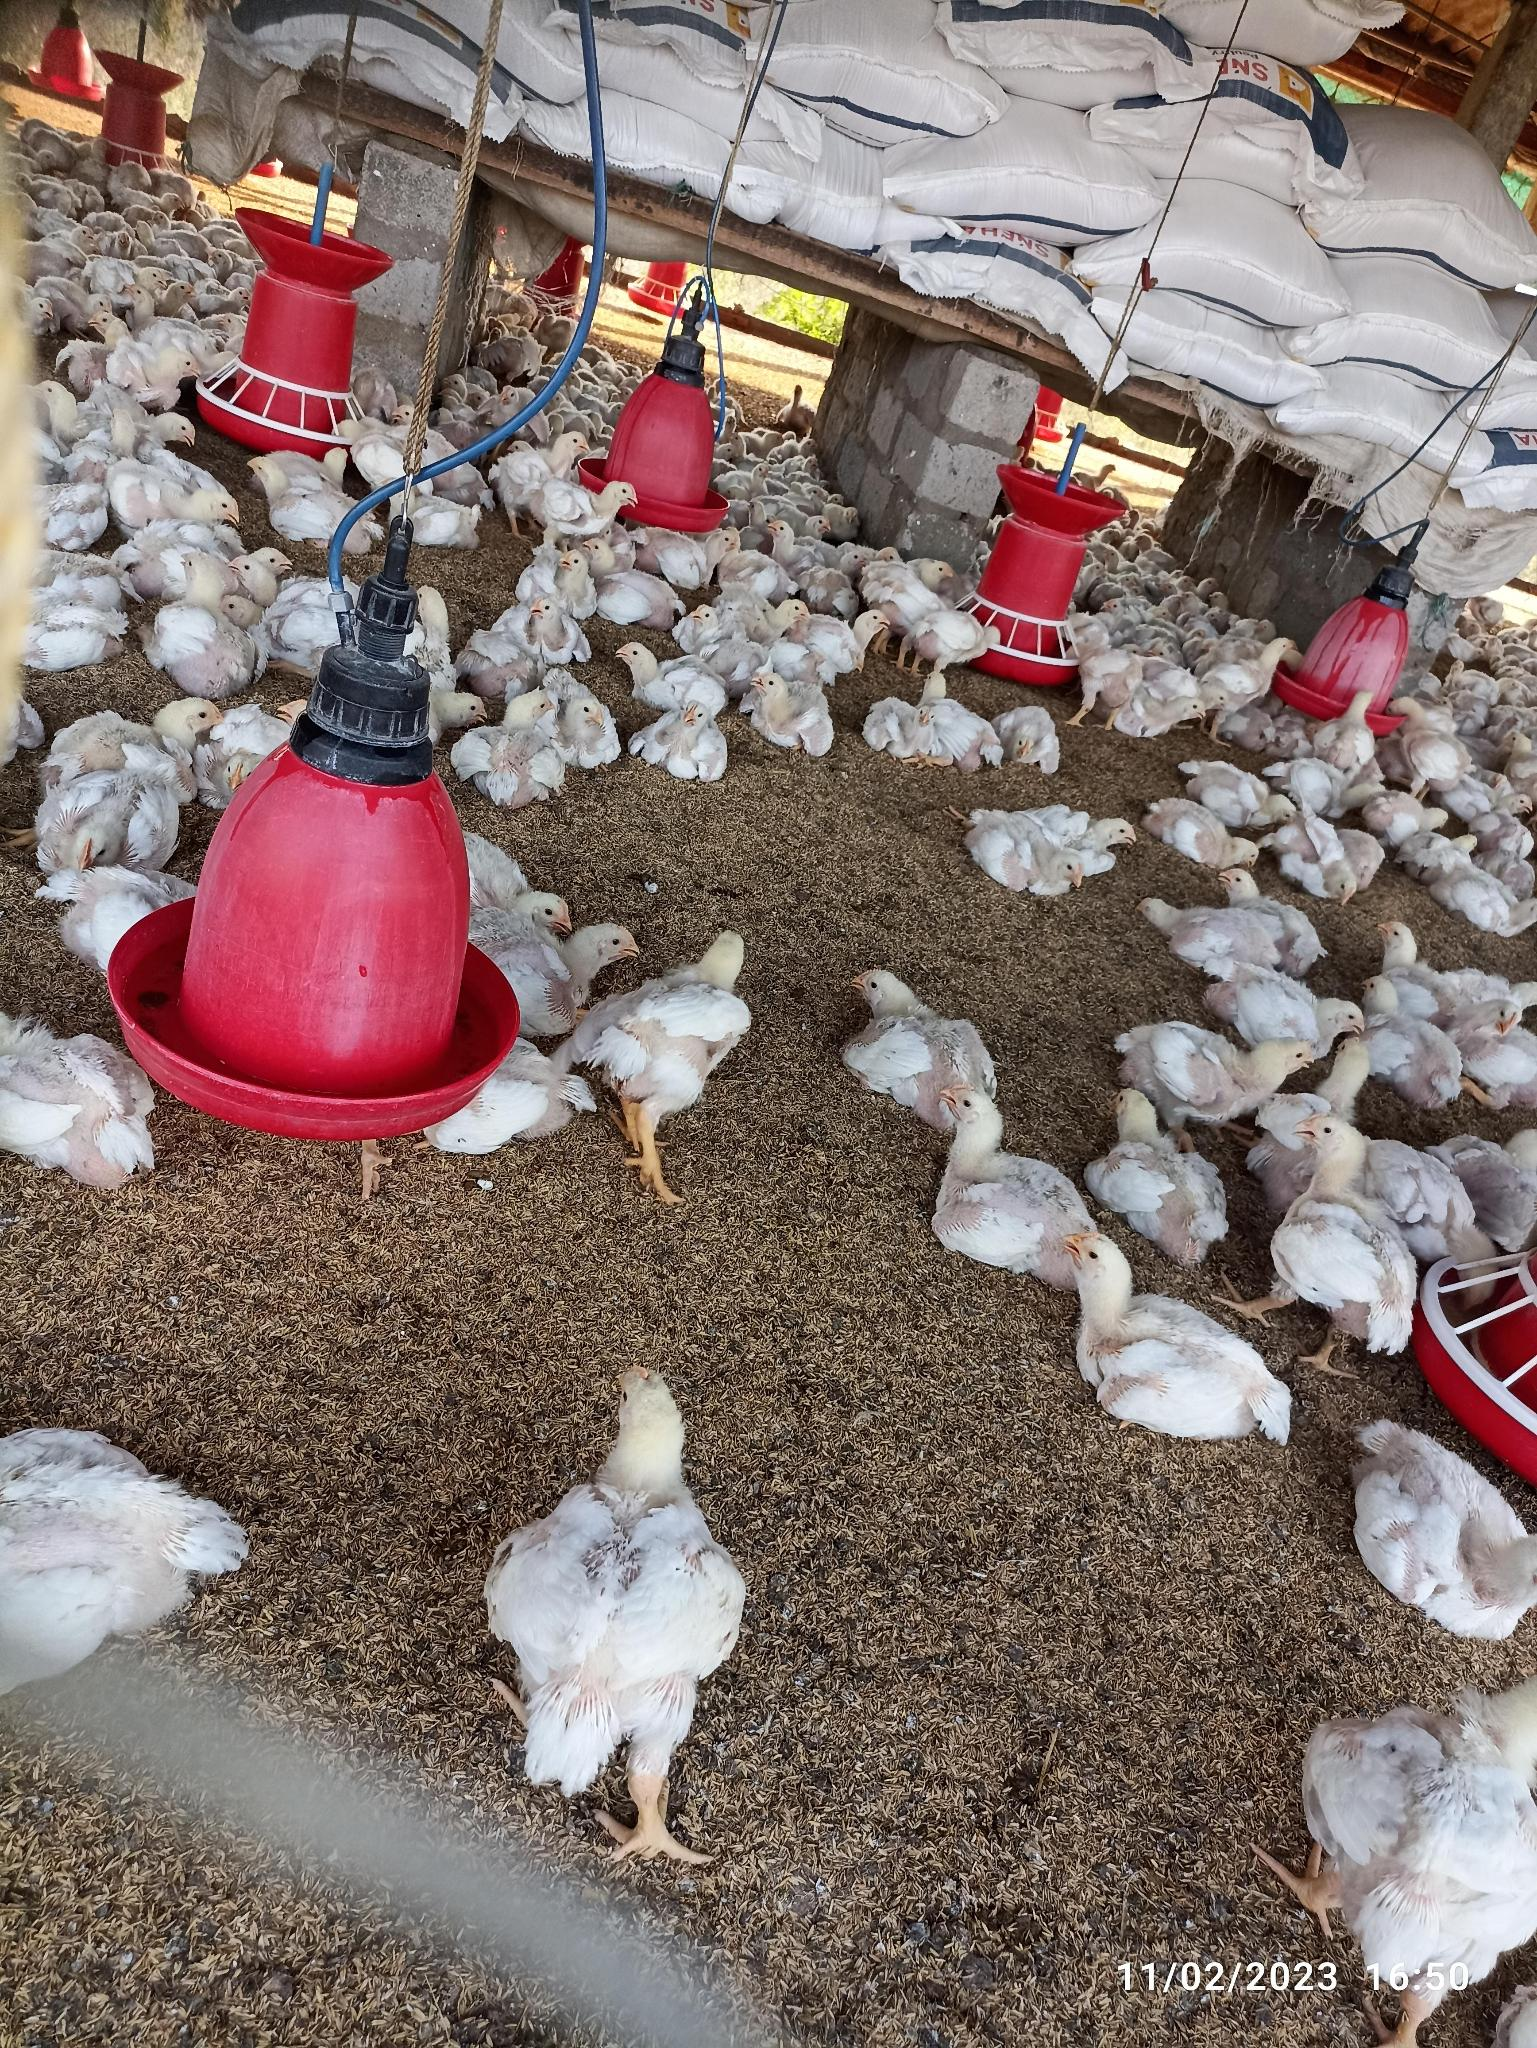Pollos: (484, 1357, 772, 1778), (1061, 1231, 1284, 1446), (1351, 1411, 1537, 1636), (1280, 1115, 1421, 1328), (597, 925, 757, 1109), (1083, 1093, 1221, 1243), (856, 959, 1003, 1093), (920, 1081, 1037, 1244), (969, 809, 1143, 881), (646, 697, 741, 797)
